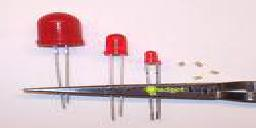LED: (32, 12, 85, 85), (98, 32, 131, 87), (141, 50, 168, 85)
